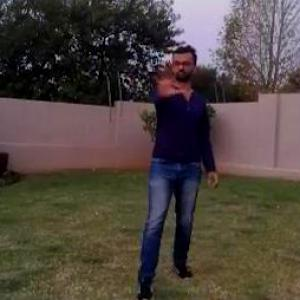follow_hand: (150, 60, 189, 98)
